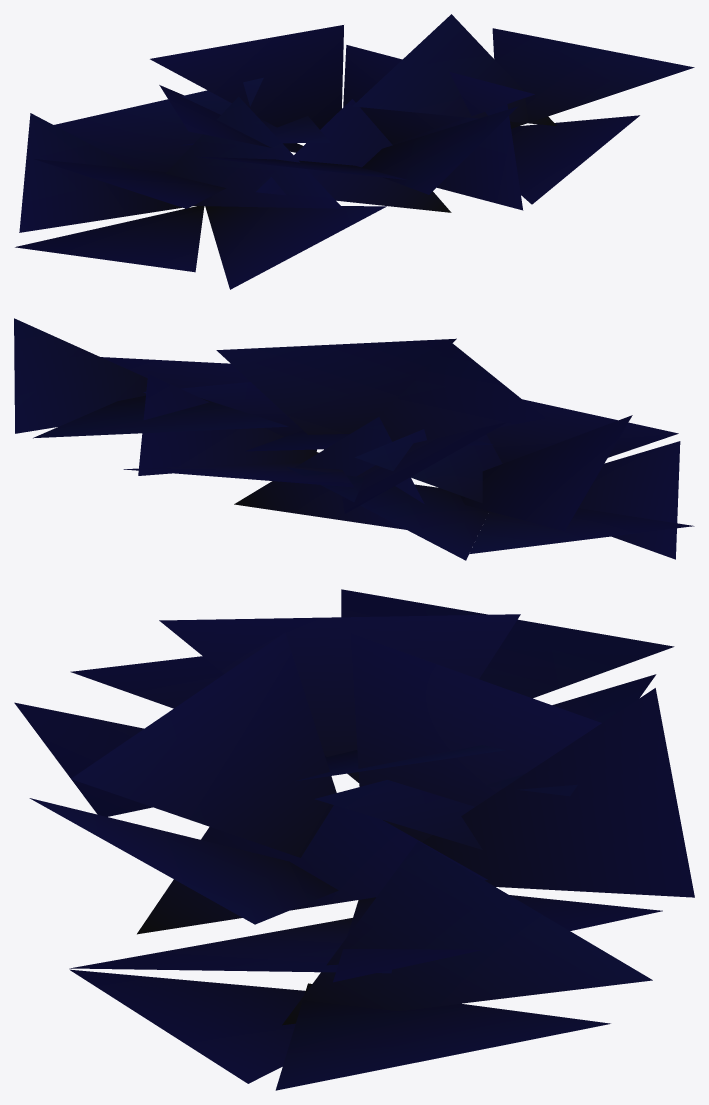
The model's file is TSI_Water_Plant_04A.fbx.
3 renders of one model, top to bottom at view 1: azimuth 30°, elevation 25°; view 2: azimuth 150°, elevation 25°; view 3: azimuth 270°, elevation 25°, orthographic. The views are drawn at different scales.
Parts seen in each view (by area): view 1: TSI_Water_Plant_04A_LOD0; view 2: TSI_Water_Plant_04A_LOD0; view 3: TSI_Water_Plant_04A_LOD0.
Part boxes in pixels (x1=…): TSI_Water_Plant_04A_LOD0: x1=15, y1=14, x2=694, y2=289; TSI_Water_Plant_04A_LOD0: x1=14, y1=318, x2=694, y2=560; TSI_Water_Plant_04A_LOD0: x1=14, y1=589, x2=694, y2=1090.
Size of the model in its own units: 308 by 37.26 by 166.
